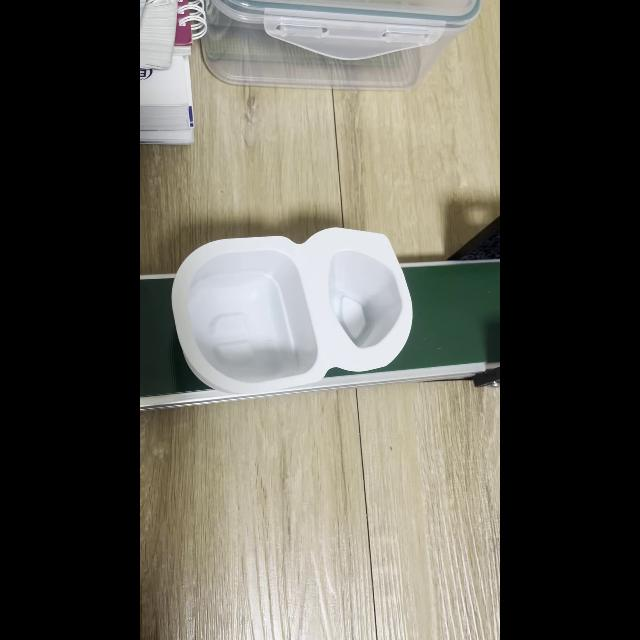clean: (187, 248, 395, 382)
